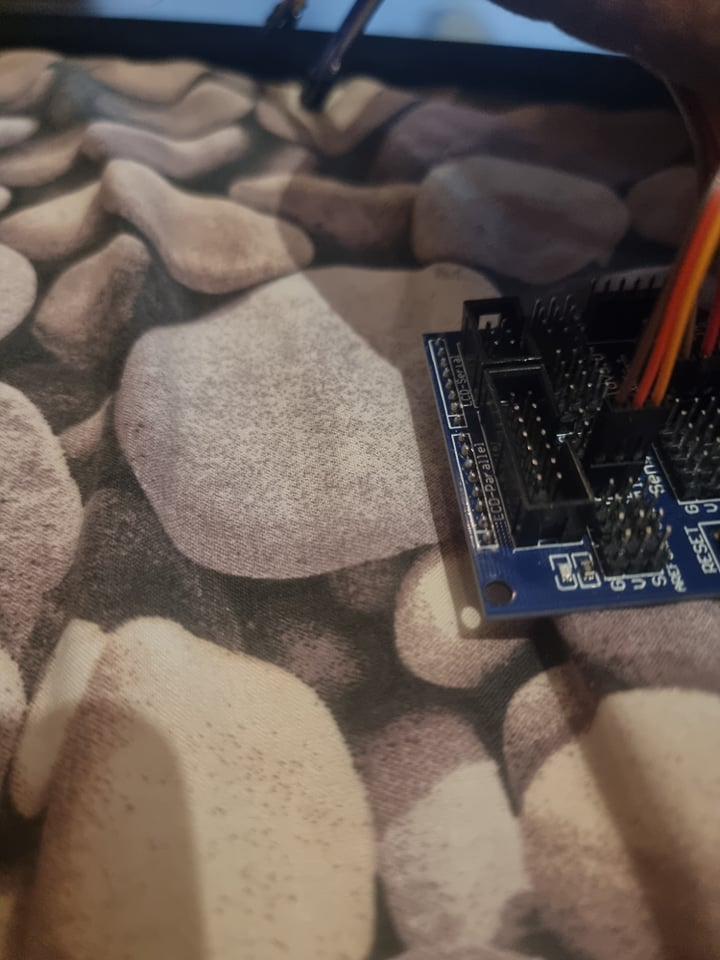5V EXPANSION: (425, 275, 720, 622)
